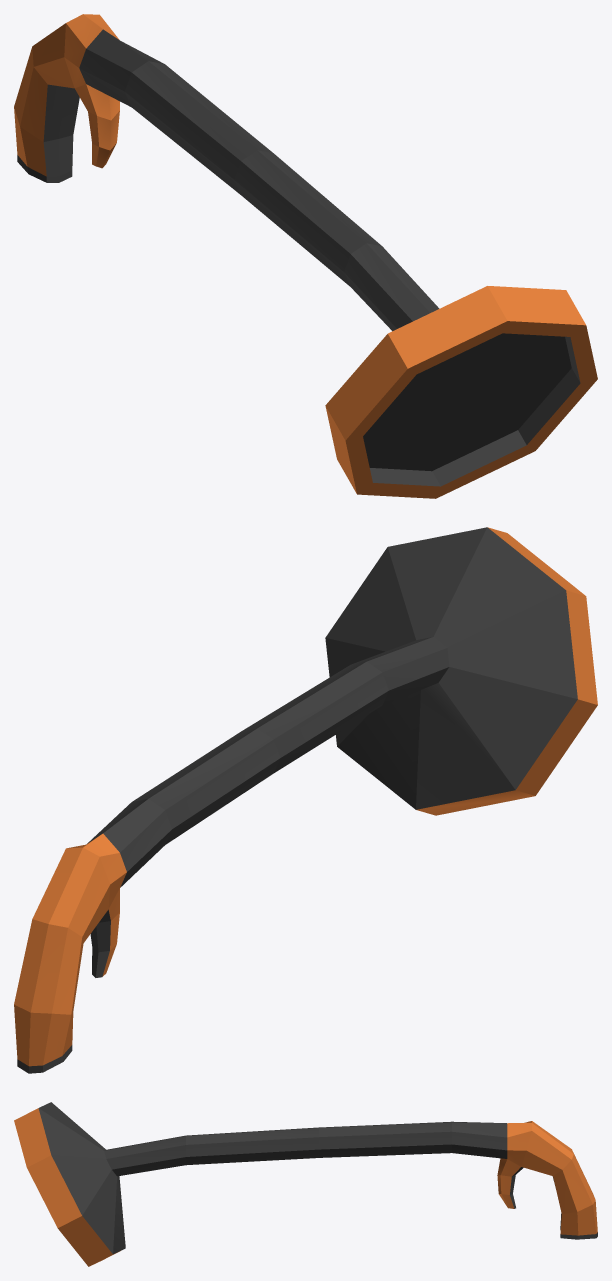
The model's file is Vacuum.fbx.
3 views of the same model, one above another, from view 1: azimuth 30°, elevation 25°; view 2: azimuth 150°, elevation 25°; view 3: azimuth 270°, elevation 25° (orthographic). The views are drawn at different scales.
Visible parts, largest first — view 1: Penyedot Sampah; view 2: Penyedot Sampah; view 3: Penyedot Sampah.
Part boxes in pixels (<box>): Penyedot Sampah: <box>14,14,597,498</box>; Penyedot Sampah: <box>14,527,597,1073</box>; Penyedot Sampah: <box>14,1102,597,1266</box>.
Size of the model in its own units: 155 by 147 by 509.
